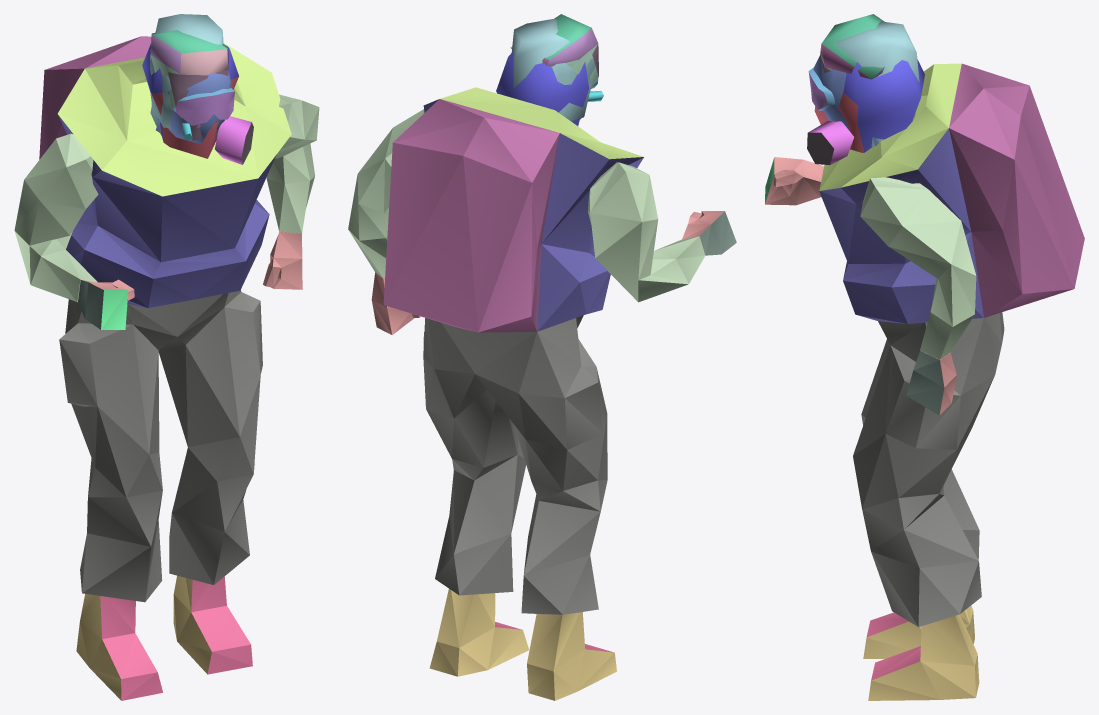
The model's file is grunt.obj.
The picture shows the model from 3 angles, left to right: view 1: azimuth 30°, elevation 25°; view 2: azimuth 150°, elevation 25°; view 3: azimuth 270°, elevation 25°; orthographic projection. The views are drawn at different scales.
Parts seen in each view (by area): view 1: gruntbody, commanderhead, grunthead, shotgunhead, m203_head; view 2: gruntbody, m203_head, grunthead, commanderhead; view 3: gruntbody, grunthead, m203_head, commanderhead, shotgunhead.
Boxes of the visible parts, box(x1,y1,x2,y2) form: gruntbody: box(14, 36, 319, 700); commanderhead: box(150, 30, 228, 140); grunthead: box(142, 44, 253, 164); shotgunhead: box(156, 71, 234, 143); m203_head: box(150, 14, 223, 140); gruntbody: box(348, 87, 736, 700); m203_head: box(511, 19, 603, 121); grunthead: box(496, 52, 589, 125); commanderhead: box(510, 14, 598, 89); gruntbody: box(765, 63, 1084, 700); grunthead: box(807, 59, 924, 164); m203_head: box(836, 21, 919, 147); commanderhead: box(820, 14, 884, 79); shotgunhead: box(808, 54, 879, 145).
Bounding box in the file's own units: 1.48 × 2.92 × 1.31.
